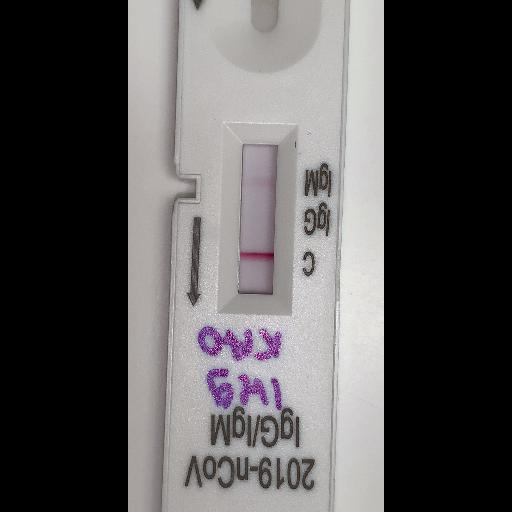Pos: (160, 0, 350, 512)
